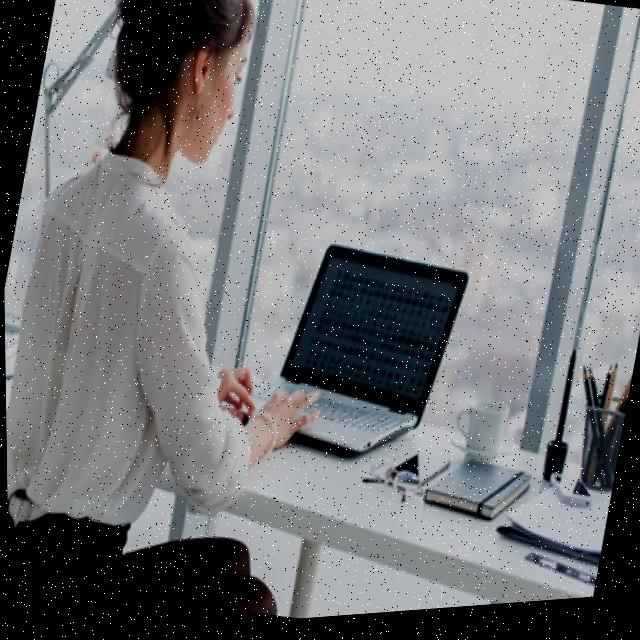notebook-person: (0, 0, 527, 640)
